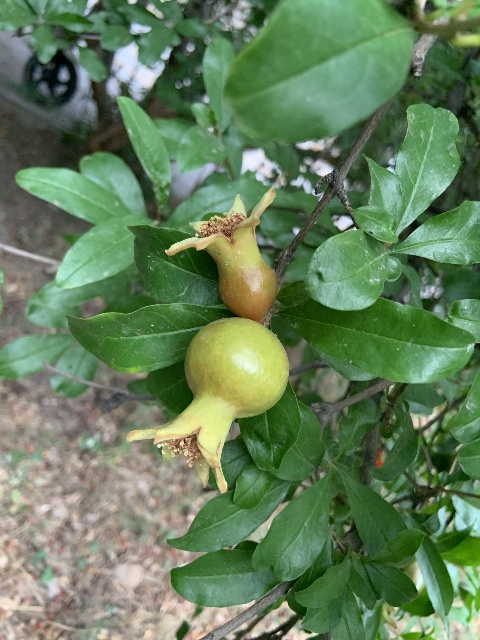early-fruit: (165, 187, 277, 323)
mid-growth: (124, 317, 289, 495)
